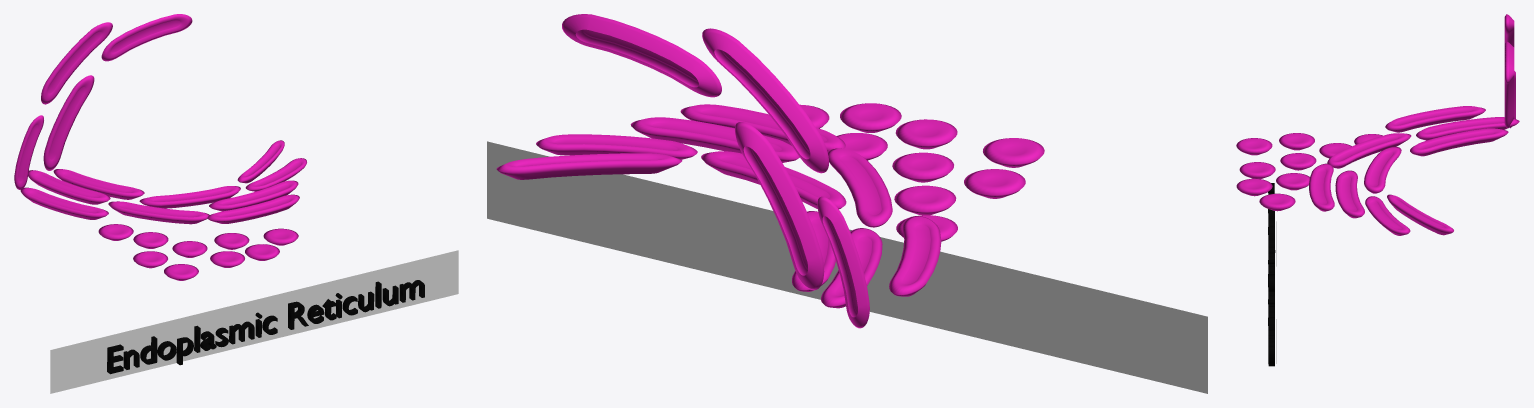
3 views of the same model, side by side, from view 1: azimuth 30°, elevation 25°; view 2: azimuth 150°, elevation 25°; view 3: azimuth 270°, elevation 25° (orthographic). The views are drawn at different scales.
Parts seen in each view (by area): view 1: Blue_Top.001, Plane.038, Text.023; view 2: Blue_Top.001, Plane.038; view 3: Blue_Top.001, Text.023.
Part boxes in pixels (left/top/right/bottom): Blue_Top.001: left=14, top=14, right=306, bottom=280; Plane.038: left=50, top=250, right=458, bottom=393; Text.023: left=107, top=280, right=424, bottom=374; Blue_Top.001: left=496, top=14, right=1044, bottom=328; Plane.038: left=487, top=141, right=1207, bottom=393; Blue_Top.001: left=1236, top=14, right=1519, bottom=235; Text.023: left=1268, top=183, right=1275, bottom=366.
Bounding box in the file's own units: 2.37 × 1.38 × 1.38.
